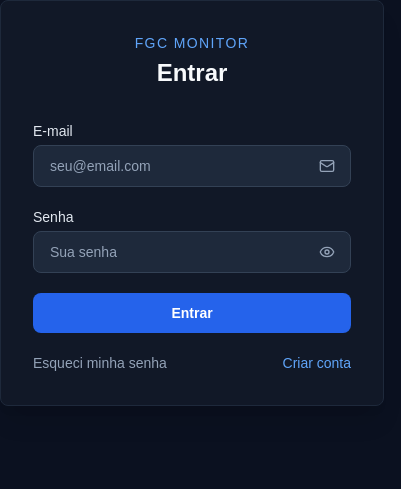
Test case: Login › mostra o erro retornado pela API quando a requisição falha
In the field labelled "E-mail": (192, 166) x1=33 y1=145 x2=351 y2=187, type "user@example.com"
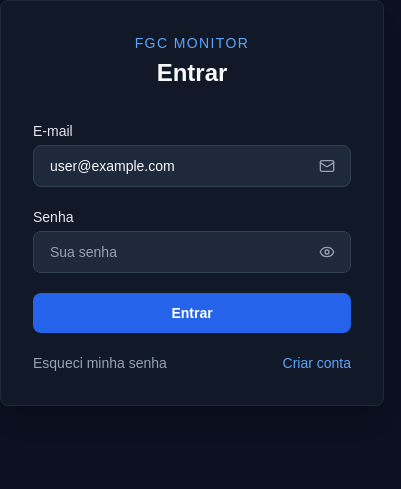
In the password field labelled "Senha": (192, 252) x1=33 y1=231 x2=351 y2=273, type "wrong-password"
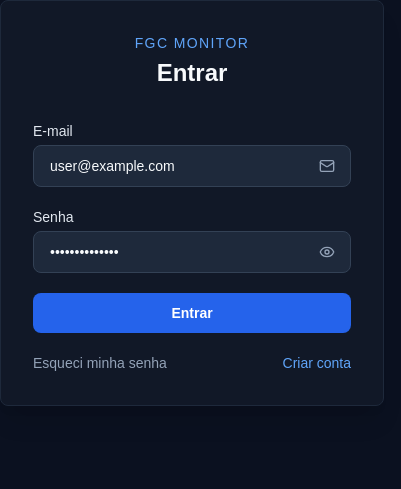
Click the button "Entrar": (192, 313) x1=33 y1=293 x2=351 y2=333
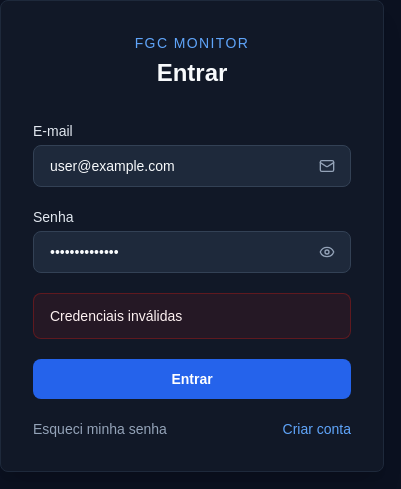
Expected: the message reads "Credenciais inválidas", x1=50 y1=308 x2=182 y2=324
